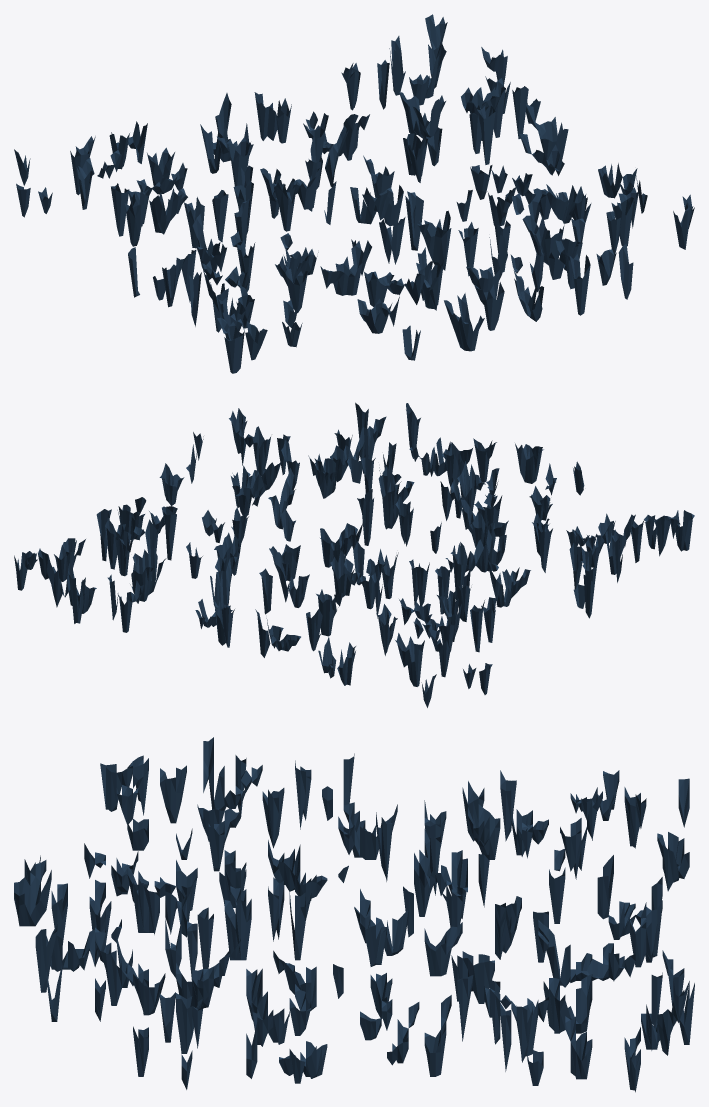
The model's file is landscape_FOREST_v2_rivers.obj.
3 views of the same model, one above another, from view 1: azimuth 30°, elevation 25°; view 2: azimuth 150°, elevation 25°; view 3: azimuth 270°, elevation 25° (orthographic). The views are drawn at different scales.
Visible parts, largest first — view 1: rivers_FOREST; view 2: rivers_FOREST; view 3: rivers_FOREST.
Part boxes in pixels (box(x1,y1,x2,y2)): rivers_FOREST: box(14, 14, 694, 373); rivers_FOREST: box(14, 402, 694, 707); rivers_FOREST: box(14, 737, 694, 1092).
Size of the model in its own units: 253 by 34.02 by 252.
